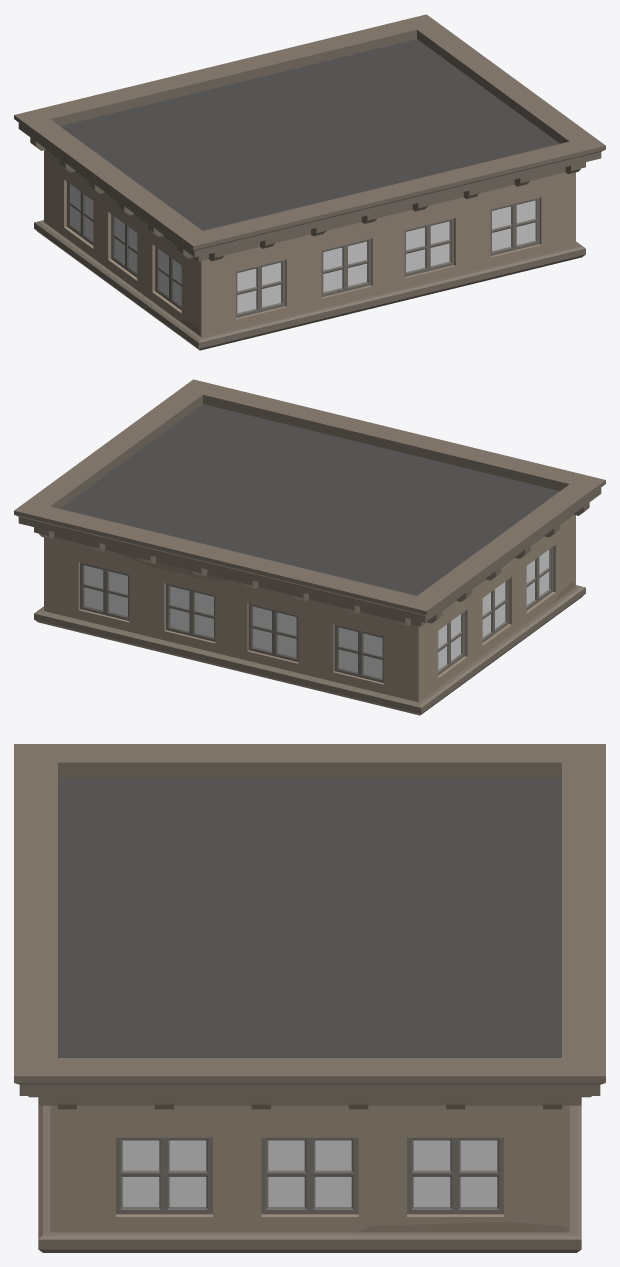
File: SM_Bldg_City_High-Rise_06_Roof.fbx
3 views of the same model, one above another, from view 1: azimuth 30°, elevation 25°; view 2: azimuth 150°, elevation 25°; view 3: azimuth 270°, elevation 25° (orthographic). The views are drawn at different scales.
Parts seen in each view (by area): view 1: SM_Bldg_City_High-Rise_06_Roof, SM_Bldg_City_High-Rise_06_Roof_Glass; view 2: SM_Bldg_City_High-Rise_06_Roof, SM_Bldg_City_High-Rise_06_Roof_Glass; view 3: SM_Bldg_City_High-Rise_06_Roof, SM_Bldg_City_High-Rise_06_Roof_Glass.
Boxes of the visible parts, x1,y1,x2,y2 form: SM_Bldg_City_High-Rise_06_Roof: (14,14,605,350); SM_Bldg_City_High-Rise_06_Roof_Glass: (70,184,535,313); SM_Bldg_City_High-Rise_06_Roof: (14,379,605,715); SM_Bldg_City_High-Rise_06_Roof_Glass: (84,549,549,678); SM_Bldg_City_High-Rise_06_Roof: (14,744,605,1252); SM_Bldg_City_High-Rise_06_Roof_Glass: (122,1140,497,1206).
Size of the model in its own units: 1620 by 429 by 1220.
